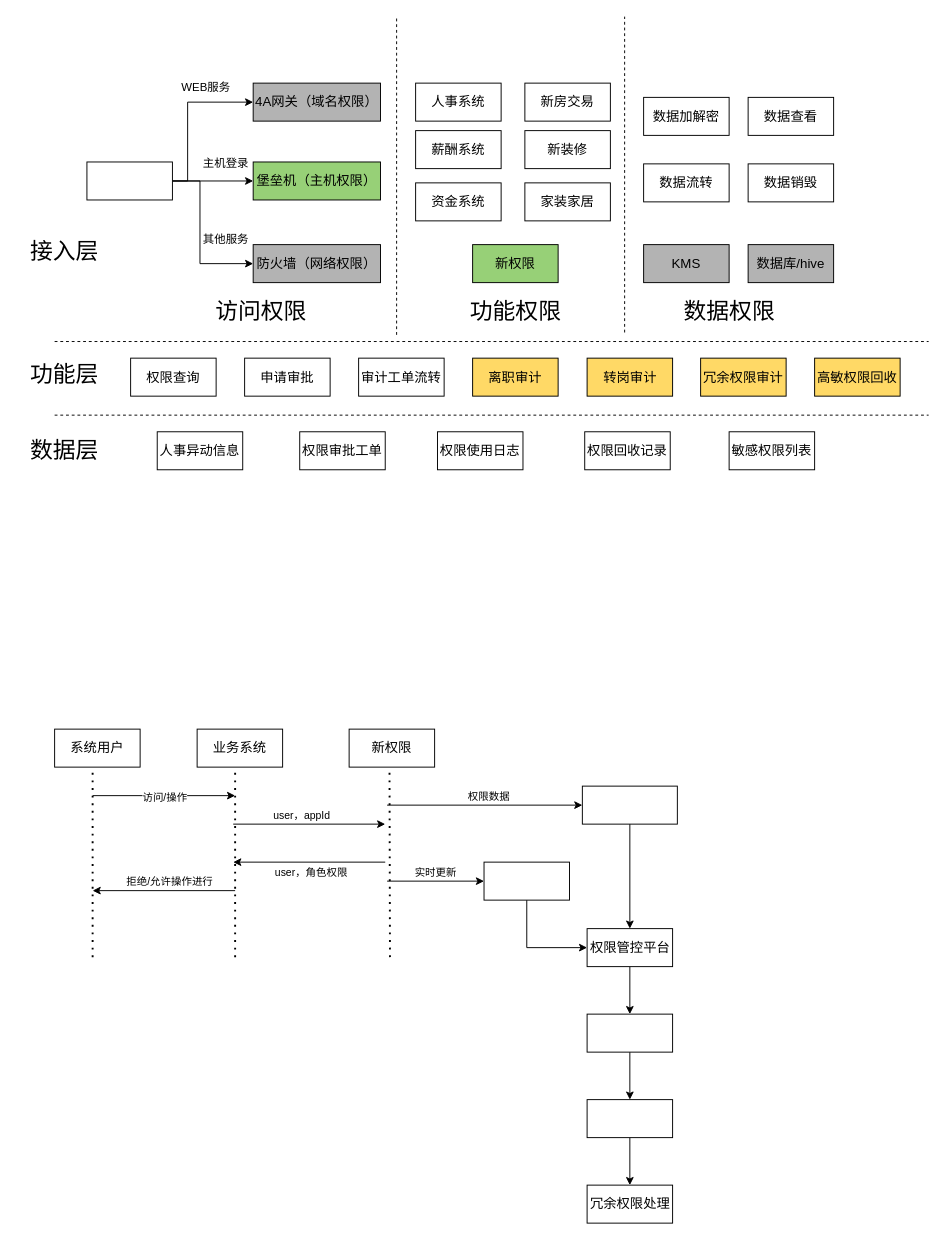
Some shapes in this 946 by 1240 pixel diagram are drawn without their labels. The centre of each missing label's shape, as x and y in pixels:
不活跃用户-项目-权限: the point at 629,1032
冗余审计通知: the point at 629,1118
办公用户: the point at 129,180
用户-项目-角色权限: the point at 629,804
用户-项目接口日志: the point at 526,880
